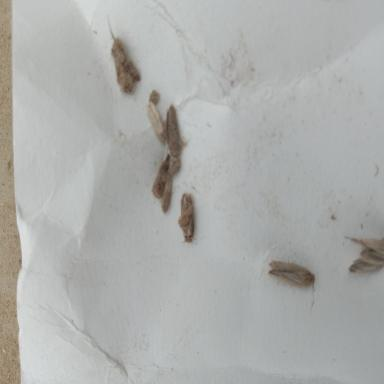pbw: (268, 259, 314, 314), (164, 105, 188, 158), (344, 236, 384, 265), (146, 101, 167, 144), (178, 192, 194, 244), (348, 260, 383, 278)
